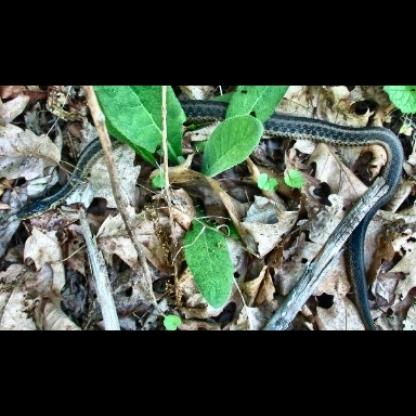Snake: (16, 98, 409, 312)
